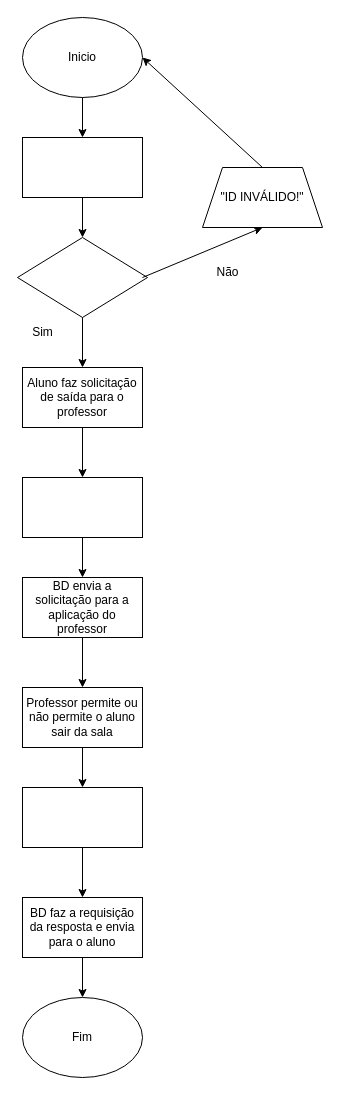
Image size: 340x1095. Some labels were removed from this diagram. Each missing label, with the box of its shape:
Login efetuado?: (16, 236, 148, 318)
Resposta é enviada para o BD: (22, 786, 142, 848)
Solicitação é enviada para o BD: (22, 476, 142, 538)
Tela de Login: (22, 136, 142, 198)
